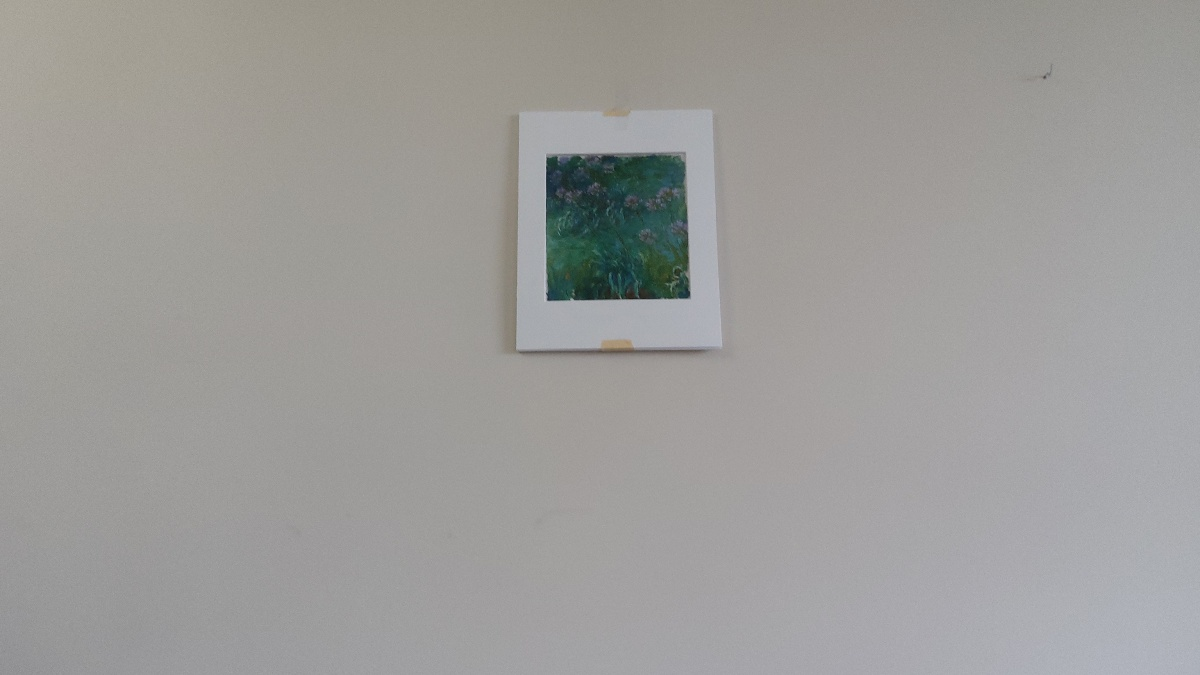painting: (538, 147, 703, 312)
